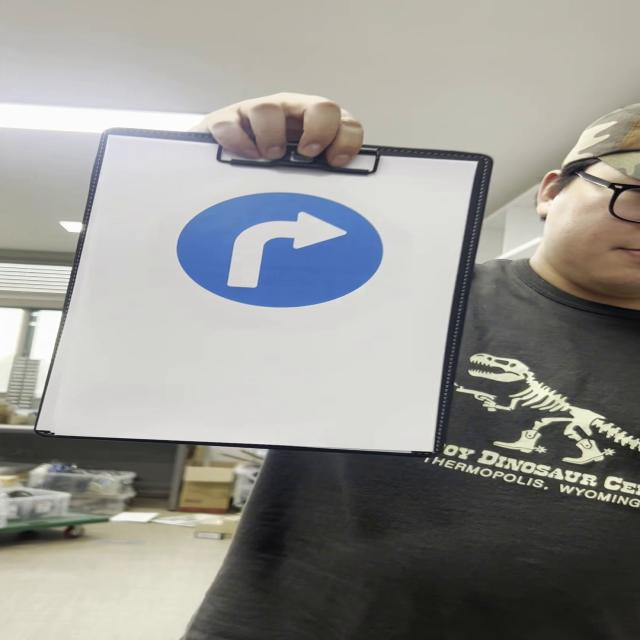right: (176, 192, 386, 309)
